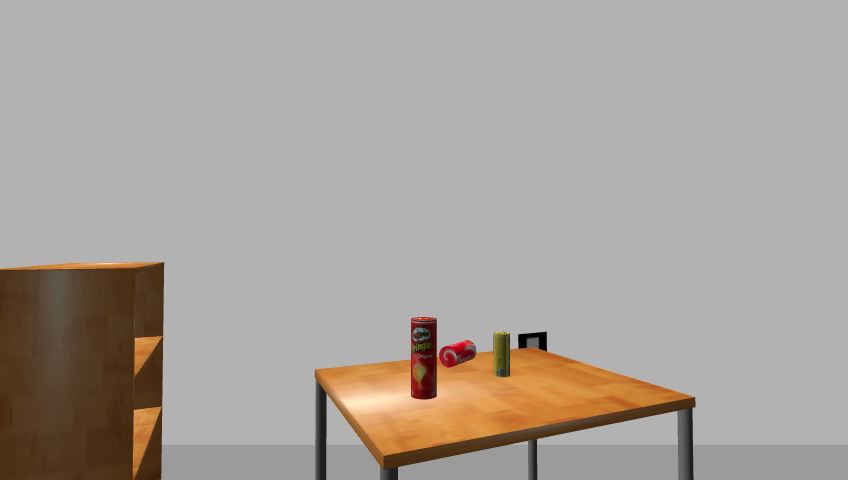aruco marker: (513, 331, 550, 355)
biscuits pack: (494, 332, 511, 379)
bookshelf: (0, 261, 172, 480)
coke can: (438, 340, 478, 370)
dinner table: (304, 348, 704, 479)
pringles can: (408, 316, 440, 401)
